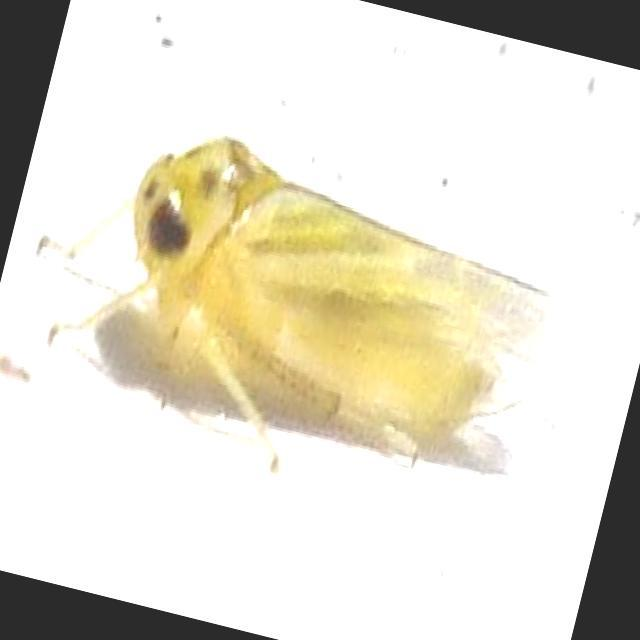green leaf hopper: (97, 137, 545, 463)
